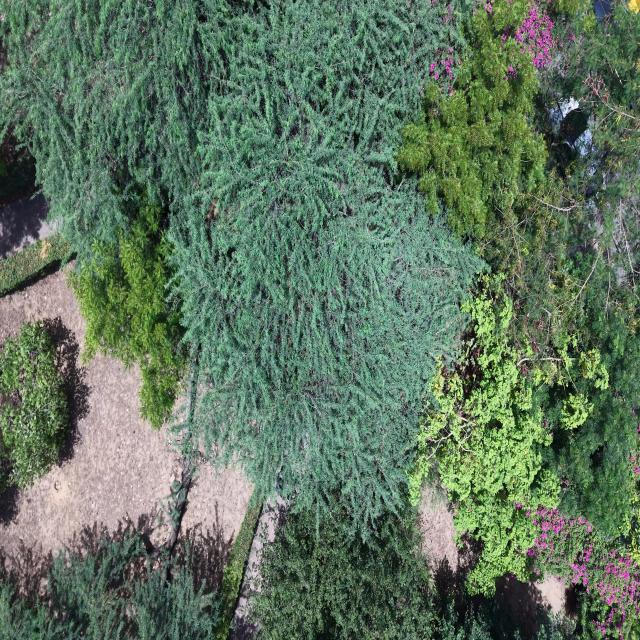DRY_AREA: (0, 266, 179, 589), (0, 270, 179, 590), (230, 496, 285, 639), (230, 501, 283, 639), (418, 487, 466, 578), (0, 194, 54, 259), (418, 487, 458, 571)
VEGETATION_TREE: (0, 0, 639, 639), (0, 2, 478, 526), (172, 2, 478, 529), (423, 70, 639, 536), (184, 206, 473, 528), (399, 3, 637, 376), (411, 278, 639, 636), (0, 0, 292, 258), (478, 114, 639, 557), (399, 2, 582, 388), (411, 277, 635, 592), (398, 0, 582, 376), (0, 0, 225, 260), (541, 3, 639, 535), (543, 5, 639, 535), (412, 278, 559, 593), (515, 5, 639, 353), (517, 4, 639, 345), (252, 503, 526, 639), (0, 500, 260, 639), (398, 0, 546, 240), (254, 506, 519, 639), (540, 264, 639, 536), (72, 196, 186, 428), (541, 3, 639, 269), (253, 501, 437, 639), (0, 535, 219, 639), (528, 507, 639, 637), (0, 323, 67, 490), (433, 587, 580, 639), (217, 495, 261, 639), (435, 600, 580, 639), (0, 235, 71, 295), (0, 135, 35, 206), (538, 614, 580, 639), (628, 0, 639, 13)
